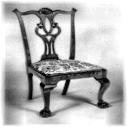chair_success: (9, 4, 119, 120)
